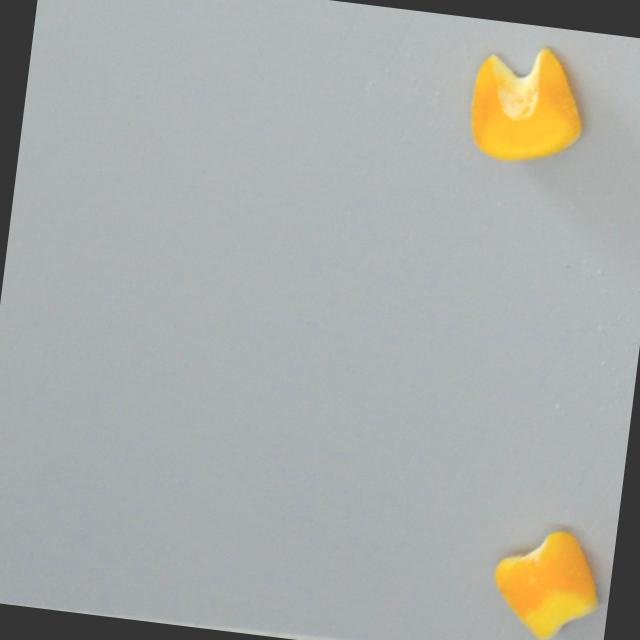no_canjicado: (459, 40, 593, 169), (483, 520, 606, 640)
